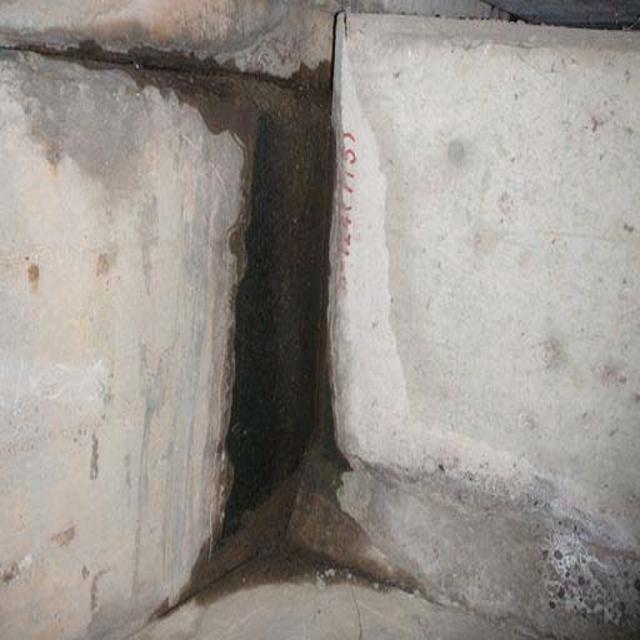leakage: (228, 43, 388, 600)
